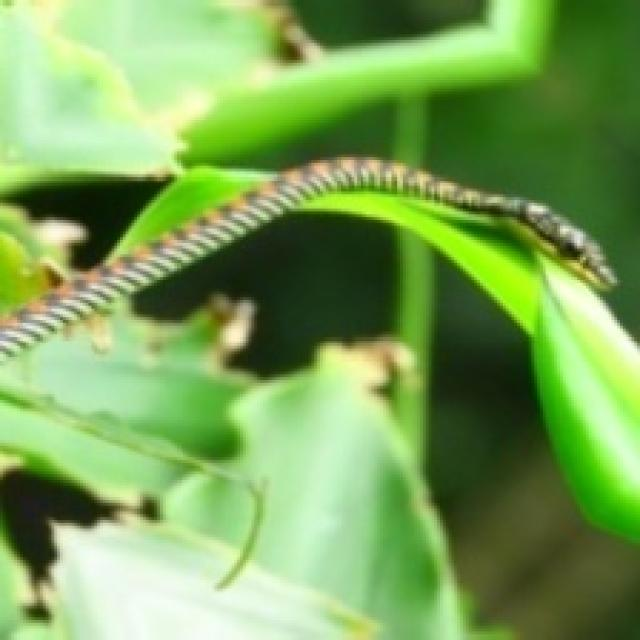paradise tree snake: (0, 157, 637, 637)
